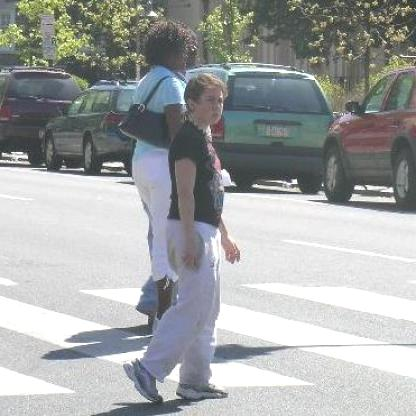ped: (127, 72, 242, 401), (120, 19, 196, 336)
